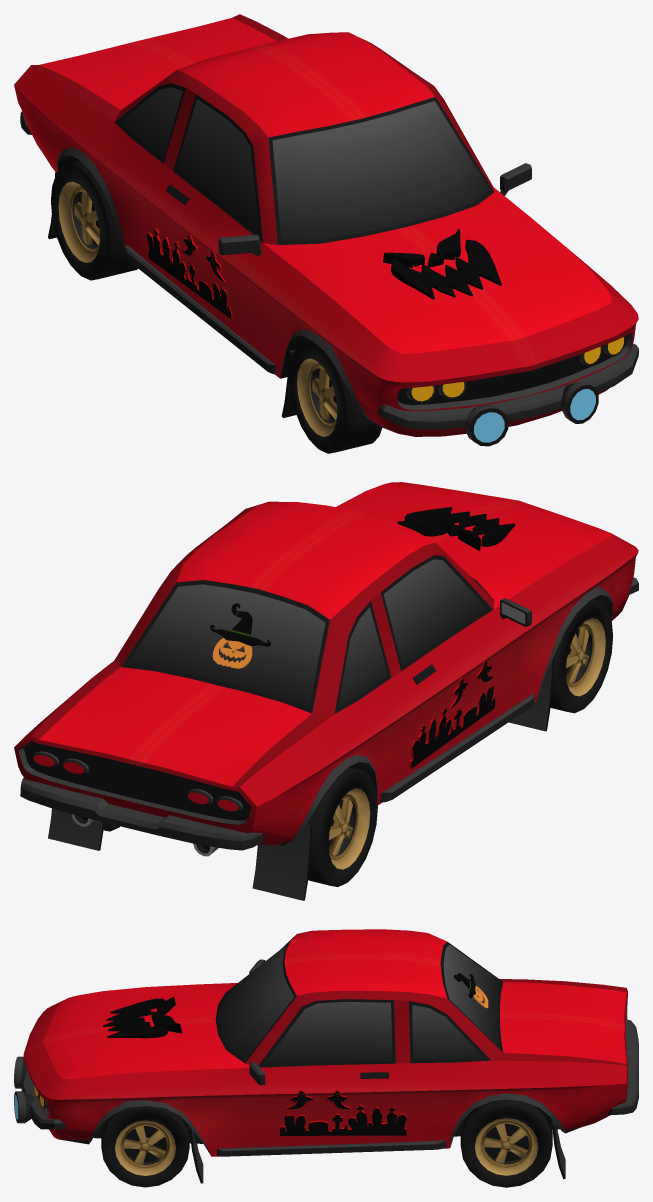
The model's file is car4.fbx.
3 views of the same model, one above another, from view 1: azimuth 30°, elevation 25°; view 2: azimuth 150°, elevation 25°; view 3: azimuth 270°, elevation 25° (orthographic). The views are drawn at different scales.
Parts seen in each view (by area): view 1: Gravyard_Halloween_props1_0_001, RearRightWheel_Texture_Atlas_0, FrontRightWheel_Texture_Atlas_0; view 2: Gravyard_Halloween_props1_0_001, RearRightWheel_Texture_Atlas_0, FrontRightWheel_Texture_Atlas_0; view 3: Gravyard_Halloween_props1_0_001, RearLeftWheel_Texture_Atlas_0, FrontLeftWheel_Texture_Atlas_0.
Part boxes in pixels (bbox=[...]): Gravyard_Halloween_props1_0_001: bbox=[14, 14, 638, 446]; RearRightWheel_Texture_Atlas_0: bbox=[51, 161, 137, 280]; FrontRightWheel_Texture_Atlas_0: bbox=[289, 340, 381, 453]; Gravyard_Halloween_props1_0_001: bbox=[14, 482, 638, 900]; RearRightWheel_Texture_Atlas_0: bbox=[307, 767, 377, 886]; FrontRightWheel_Texture_Atlas_0: bbox=[550, 599, 613, 713]; Gravyard_Halloween_props1_0_001: bbox=[14, 929, 638, 1183]; RearLeftWheel_Texture_Atlas_0: bbox=[460, 1099, 552, 1187]; FrontLeftWheel_Texture_Atlas_0: bbox=[101, 1106, 189, 1187].
Size of the model in its own units: 191 by 140 by 435.
Materials: 2 (2 with a texture image).
